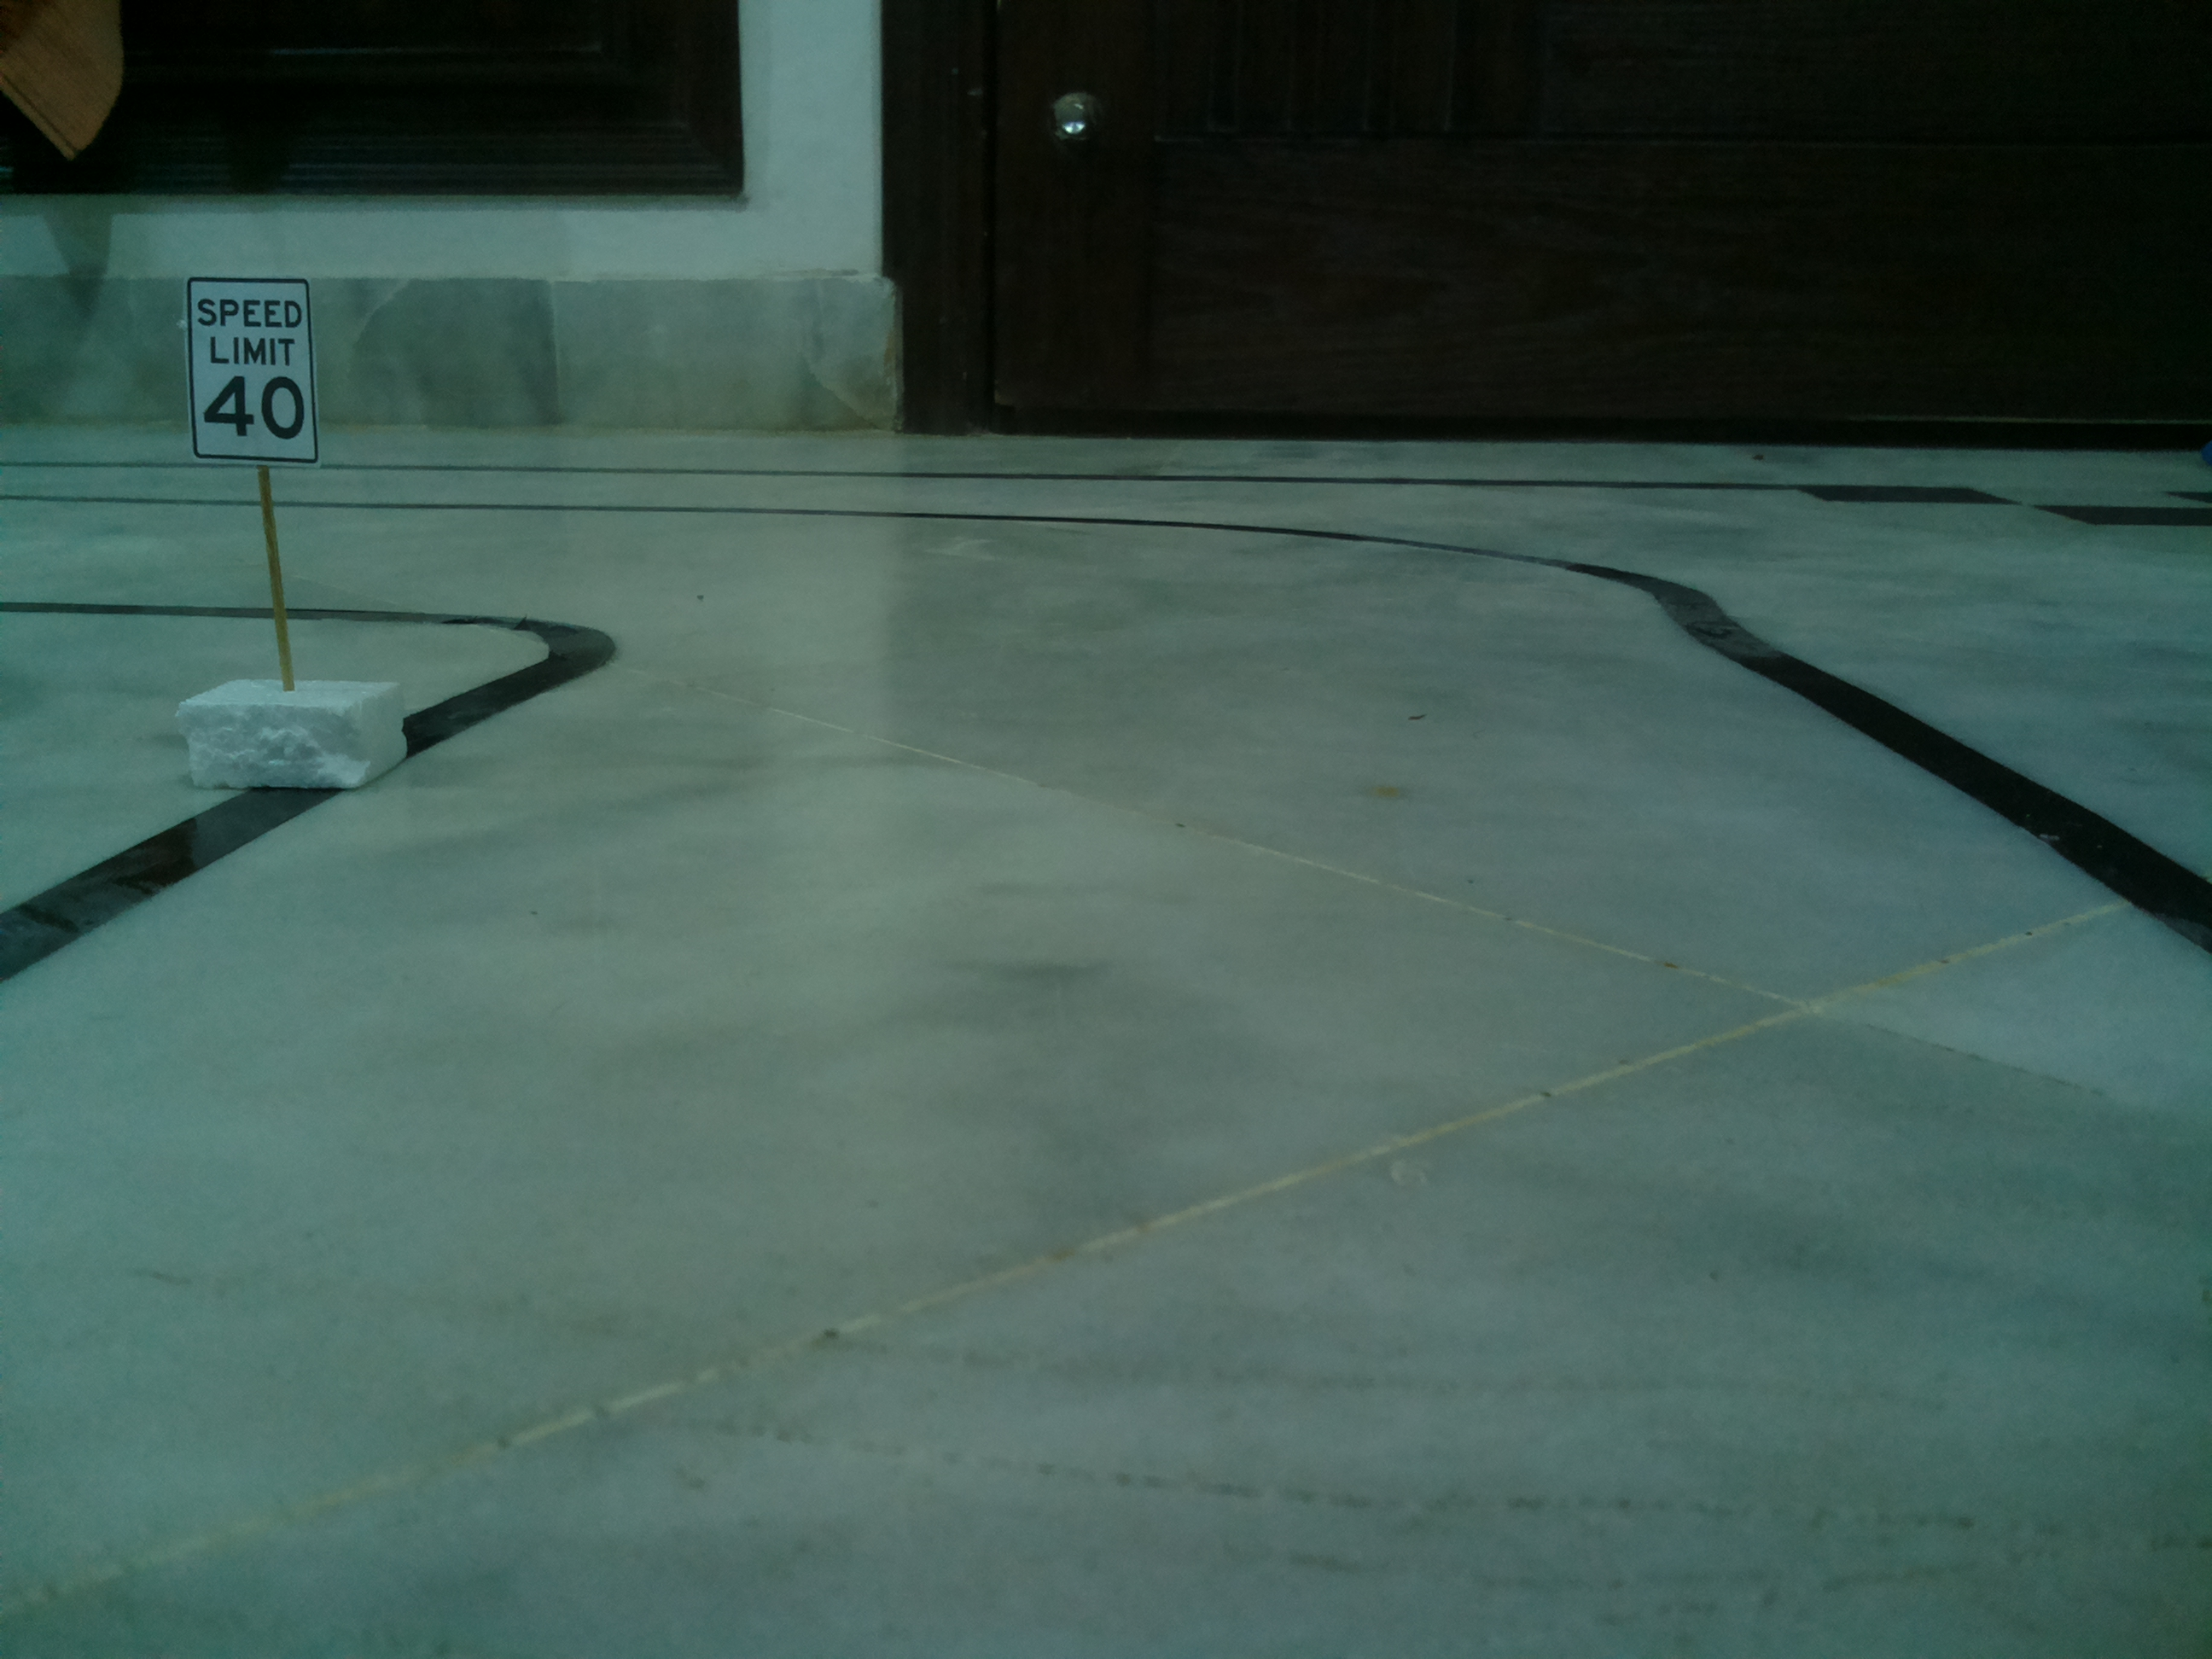Speed limit 40: (179, 272, 324, 474)
